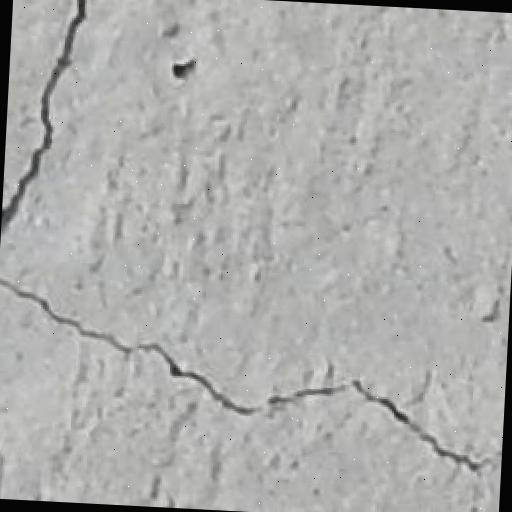spalling: (7, 256, 494, 477), (5, 0, 105, 233)
